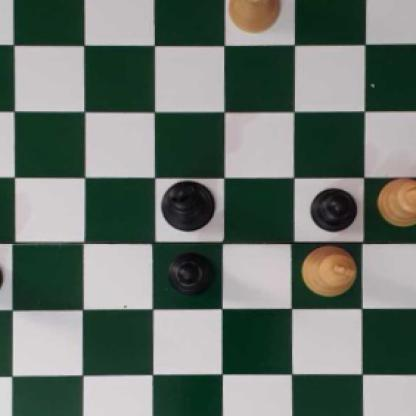black-king: (156, 179, 214, 230)
black-pawn: (167, 251, 217, 298), (308, 186, 356, 232)
white-bishop: (375, 176, 416, 228)
white-king: (302, 241, 356, 297)
white-rook: (226, 0, 283, 34), (0, 253, 4, 305)
